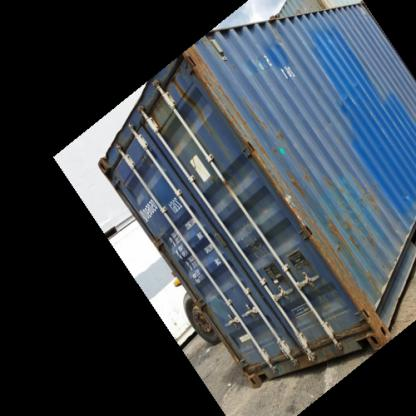Damage: (315, 217, 385, 328), (167, 70, 220, 138), (272, 158, 317, 226), (324, 74, 364, 116), (241, 230, 275, 268), (146, 101, 168, 128), (268, 28, 287, 52), (315, 32, 341, 46)
